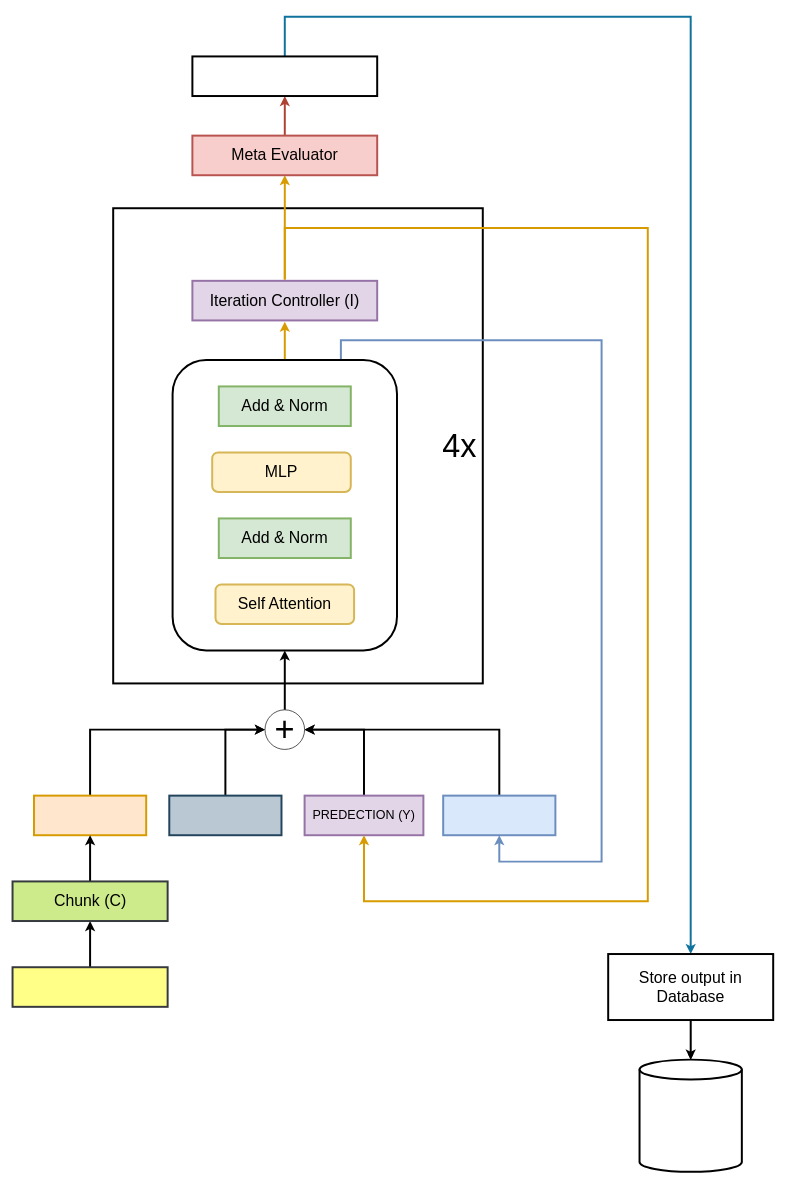
This 785x1184 diagram has some shape labels left out. Here are the shapes that lost their labels. From the top down, the box of each, then its label:
(191, 55, 378, 97): Final Output (Y)
(33, 794, 147, 836): INPUT (X)
(168, 794, 282, 836): VECTOR (A)
(442, 794, 556, 836): LATENT (Z)
(11, 966, 168, 1007): User Input (x)
(638, 1058, 742, 1172): Database
